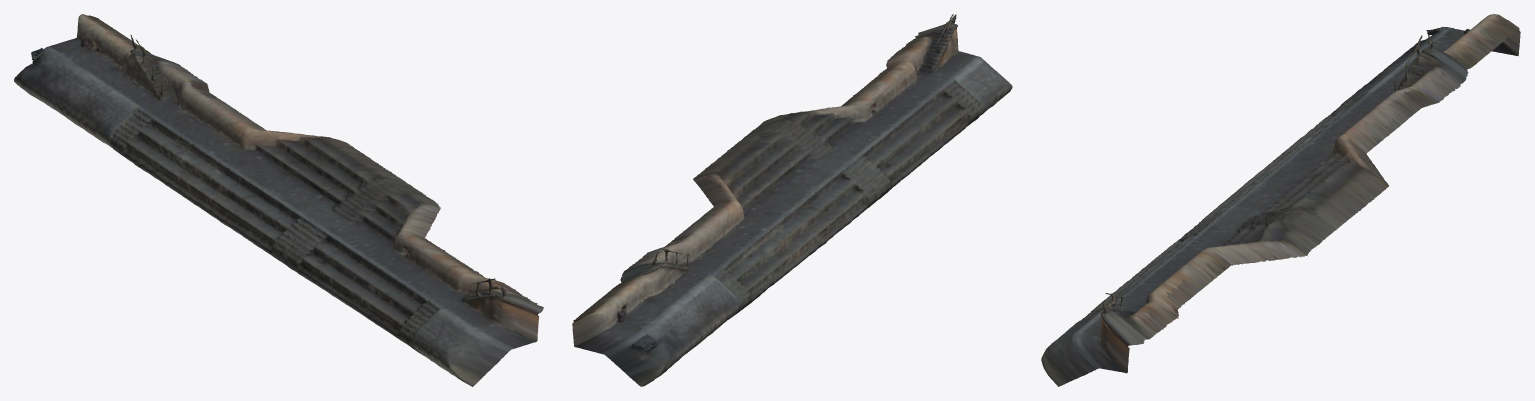
The model's file is run4_p2_c16.glb.
The picture shows the model from 3 angles, left to right: view 1: azimuth 30°, elevation 25°; view 2: azimuth 150°, elevation 25°; view 3: azimuth 330°, elevation 25°; orthographic projection. The views are drawn at different scales.
Visible parts, largest first — view 1: run4_p2_straight_c16; view 2: run4_p2_straight_c16; view 3: run4_p2_straight_c16.
Boxes of the visible parts, <box> form: run4_p2_straight_c16: <box>14,14,543,386</box>; run4_p2_straight_c16: <box>572,14,1012,386</box>; run4_p2_straight_c16: <box>1041,14,1520,386</box>.
Bounding box in the file's own units: 8.86 × 5.05 × 40.14.
1 material, 1 textured.
